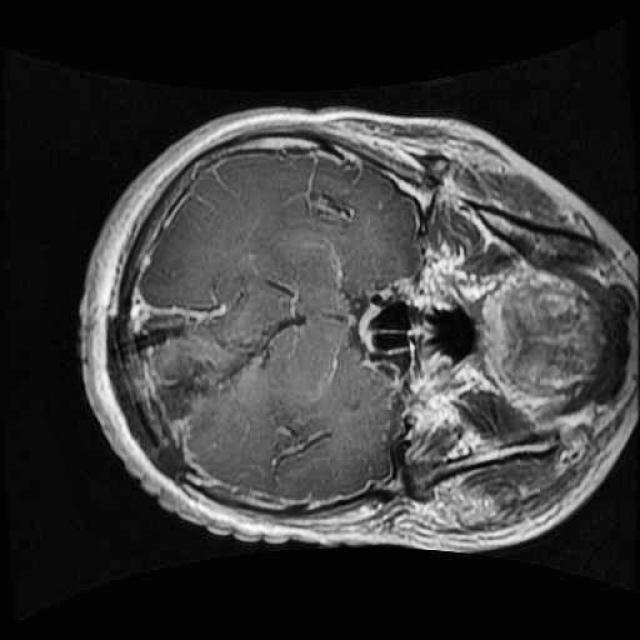Non-Tumor: (143, 306, 261, 455)
